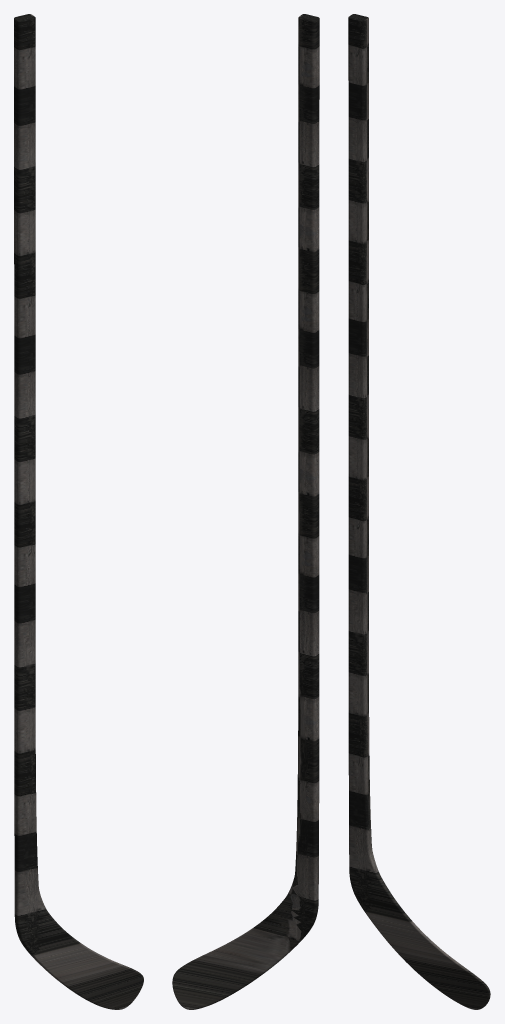
The picture shows the model from 3 angles, left to right: view 1: azimuth 30°, elevation 25°; view 2: azimuth 150°, elevation 25°; view 3: azimuth 330°, elevation 25°; orthographic projection. The views are drawn at different scales.
Visible parts, largest first — view 1: geometry_0; view 2: geometry_0; view 3: geometry_0.
Boxes of the visible parts, x1,y1,x2,y2 form: geometry_0: [14, 14, 143, 1009]; geometry_0: [172, 14, 319, 1009]; geometry_0: [348, 14, 490, 1009].
Size of the model in its own units: 232 by 1650 by 47.91.
1 material, 1 textured.
